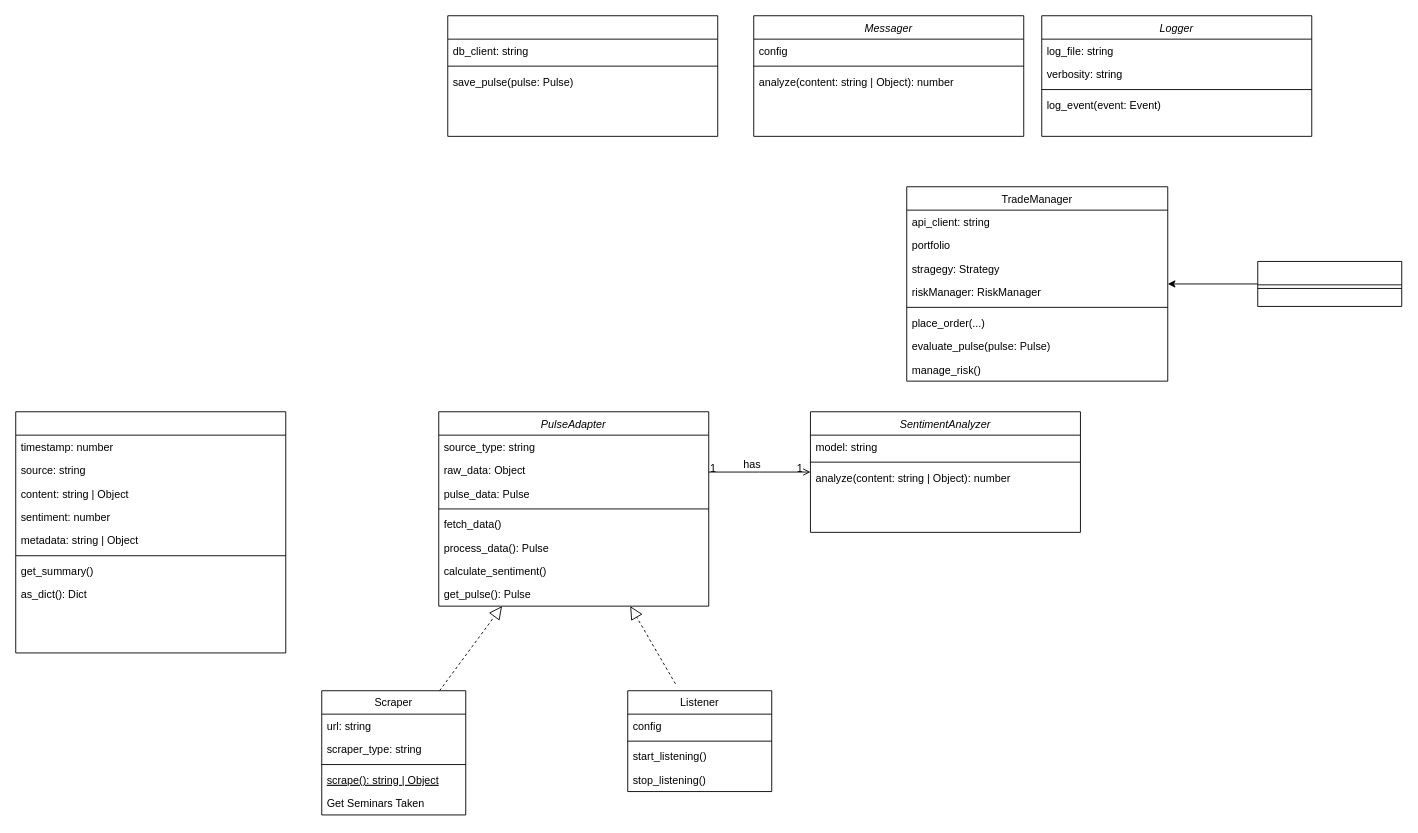
The diagram is 1418 pixels wide and 833 high, and some of its shapes have lost their labels. Here are the shapes that lost their labels. From the top down, the box of each, then its label:
(447, 15, 718, 136): DataStorage
(1257, 261, 1402, 306): TraderAPI
(15, 411, 286, 653): Pulse
